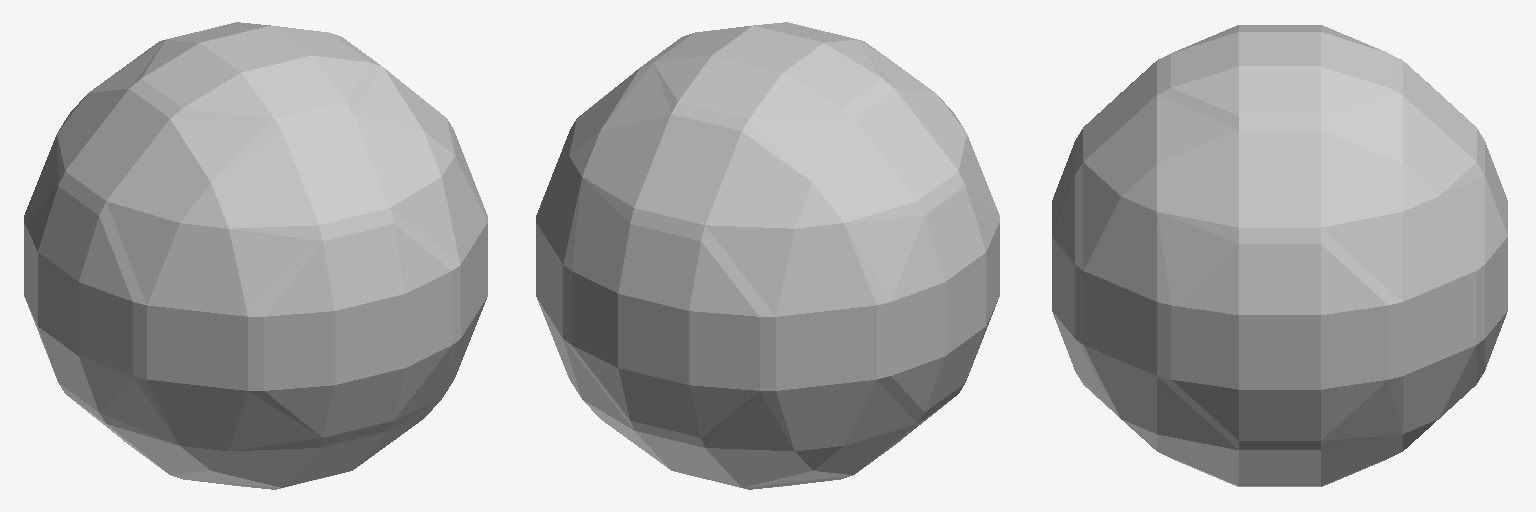
Rendered from player_left_hand.obj.
3 renders of one model, left to right at view 1: azimuth 30°, elevation 25°; view 2: azimuth 150°, elevation 25°; view 3: azimuth 270°, elevation 25°, orthographic.
Visible parts, largest first — view 1: Mball; view 2: Mball; view 3: Mball.
Boxes of the visible parts, x1,y1,x2,y2 form: Mball: [24, 22, 487, 489]; Mball: [536, 22, 999, 489]; Mball: [1052, 25, 1507, 486].
Bounding box in the file's own units: 0.757 × 0.757 × 0.757.